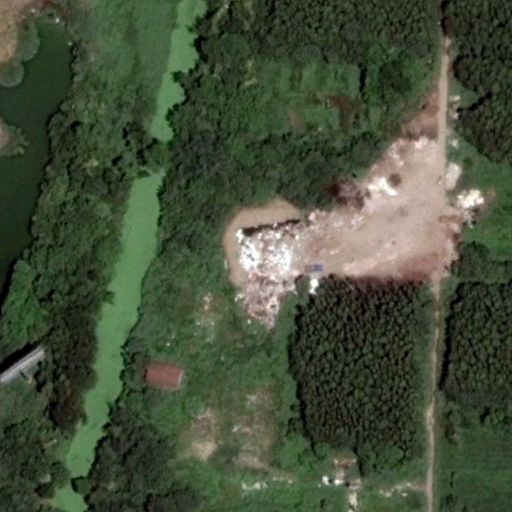msw: (239, 209, 340, 327)
